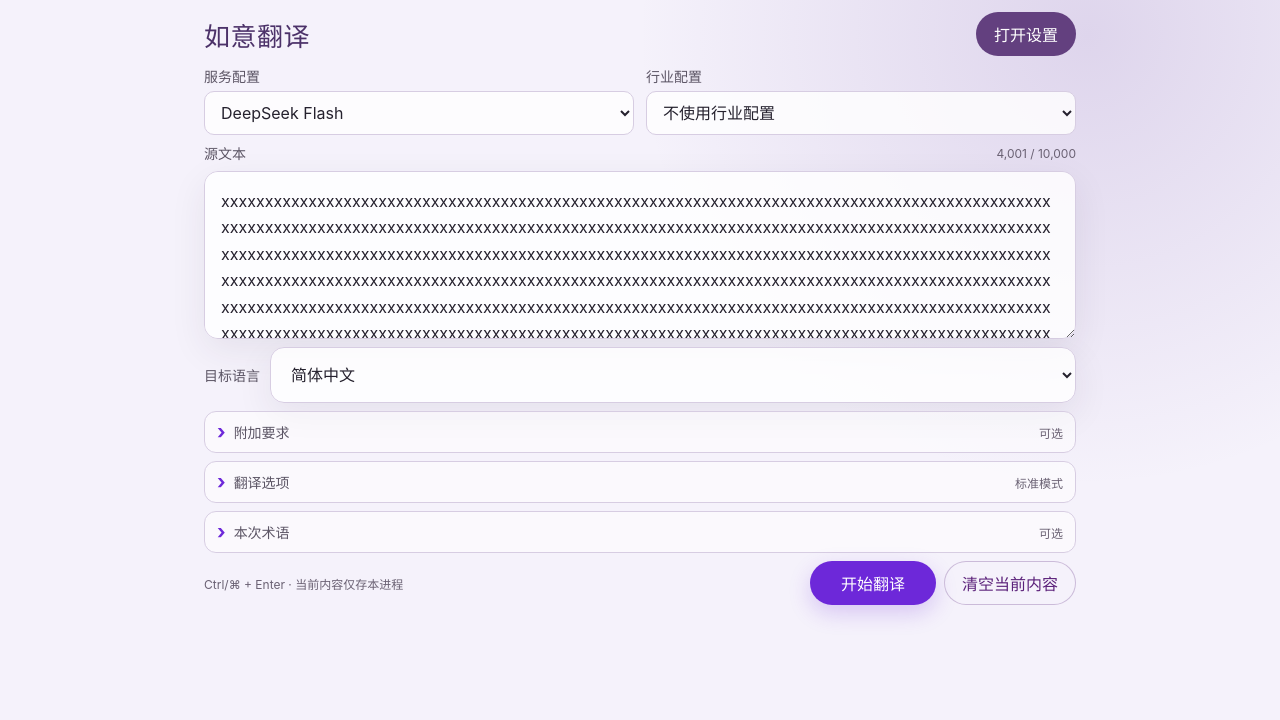
Test case: ConfiguredTranslationPage parallel acceleration › suggests acceleration for a long source without enabling it
Click the text "翻译选项" at (262,482), box [234,474,290,491]
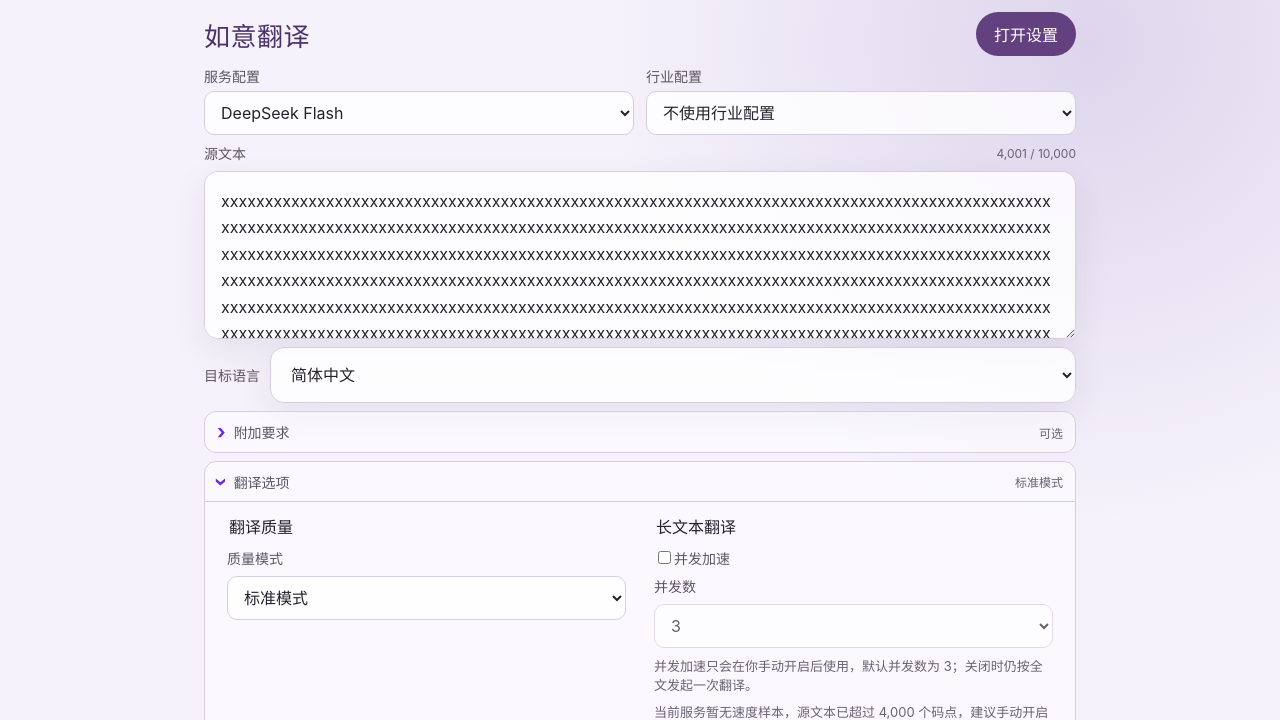
Check: the checkbox labelled "并发加速" is not checked, box [658,551,671,564]
